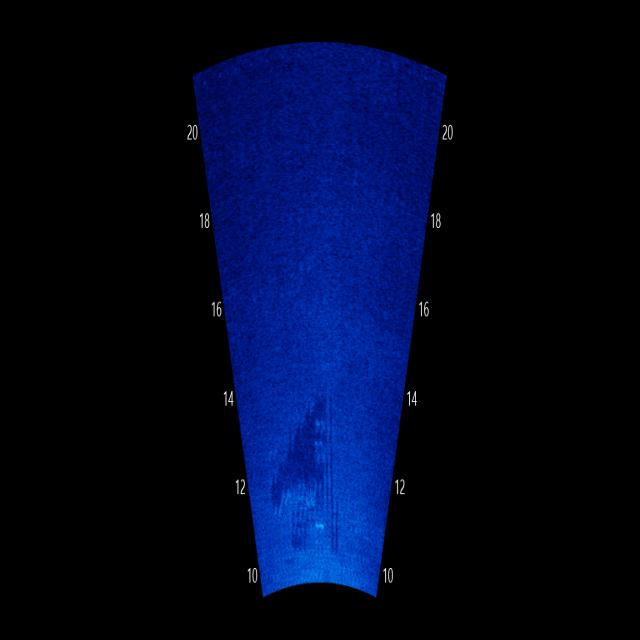triangle: (268, 330, 342, 558)
